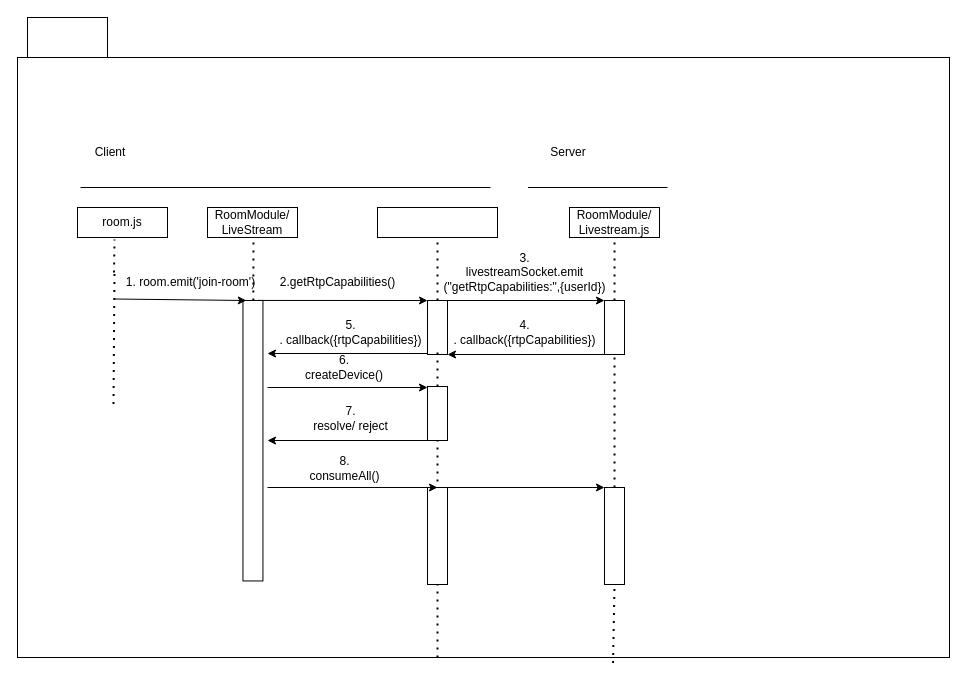
Some shapes in this 967 by 682 pixel diagram are drawn without their labels. The shapes that lost their labels are listed below. From the top down, each one's centre as x and y in pixels, then its label:
the point at 67,37: Join-room
the point at 437,222: RoomModule/ MediasoupInterface
